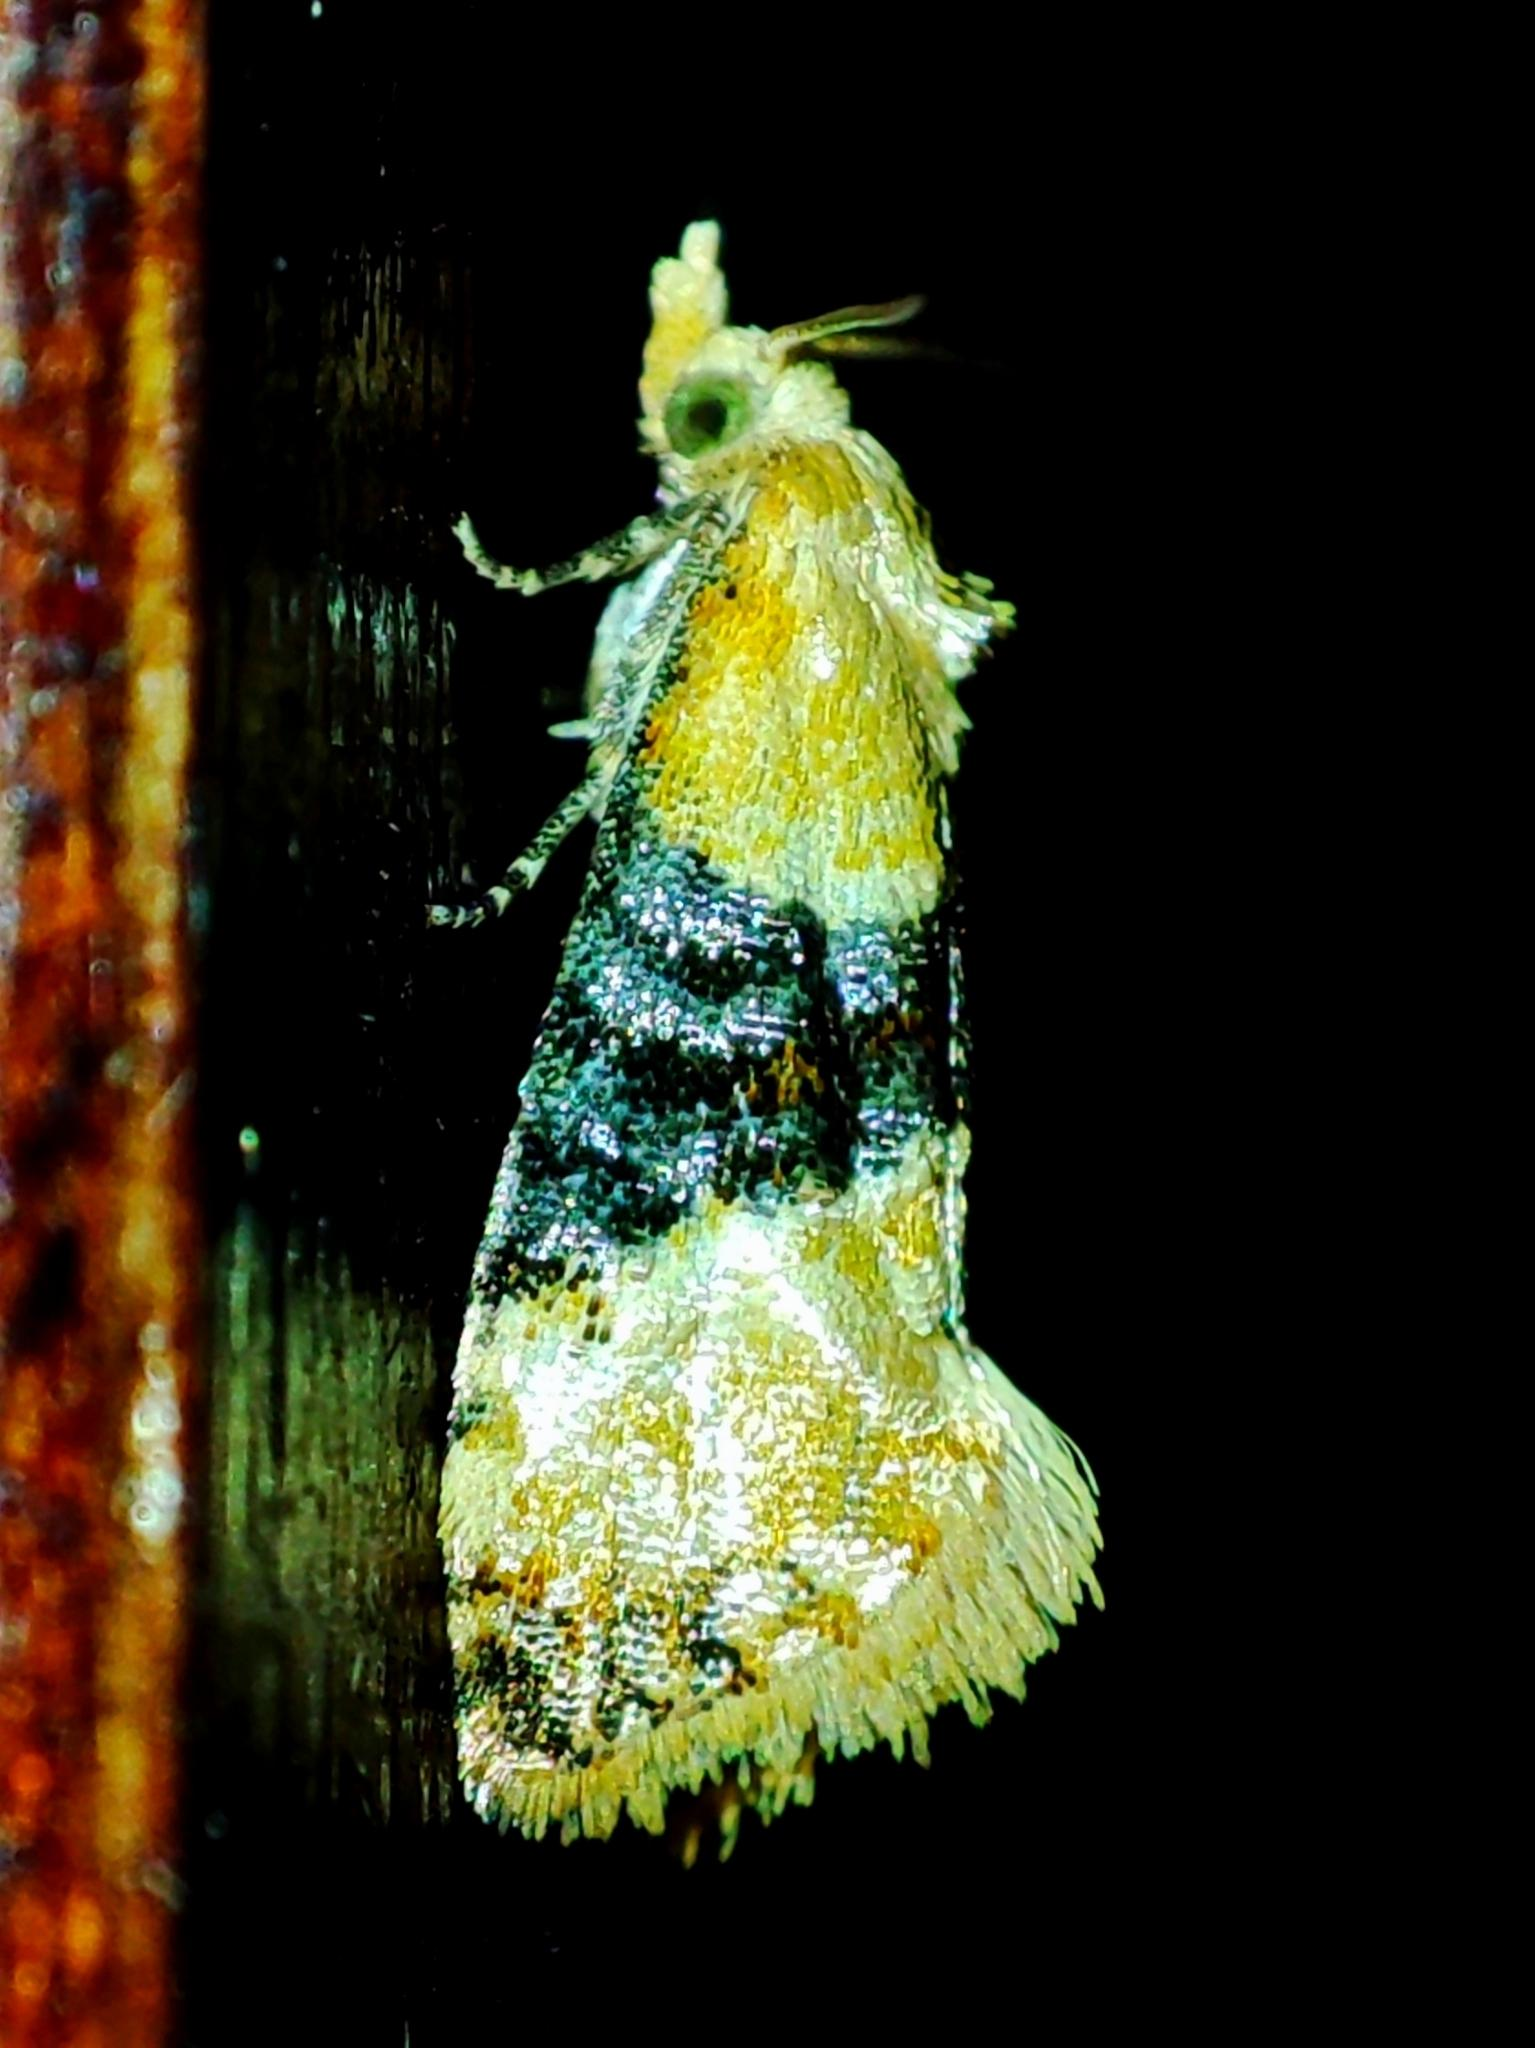Eupoecilia Ambiguella: (422, 214, 1111, 1864)
